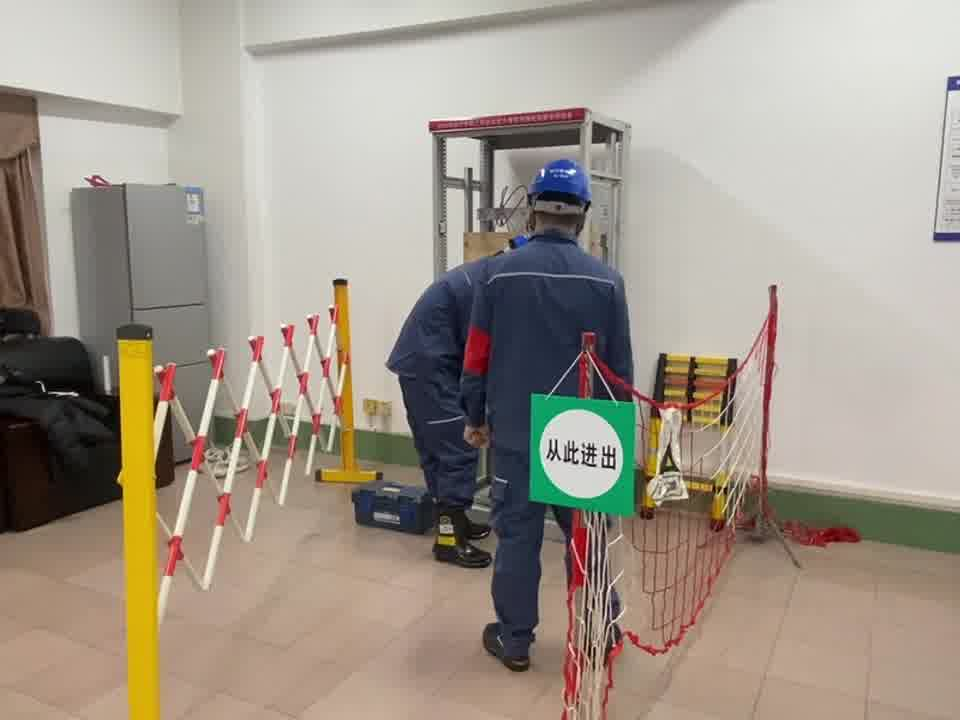halt: (527, 159, 597, 239)
